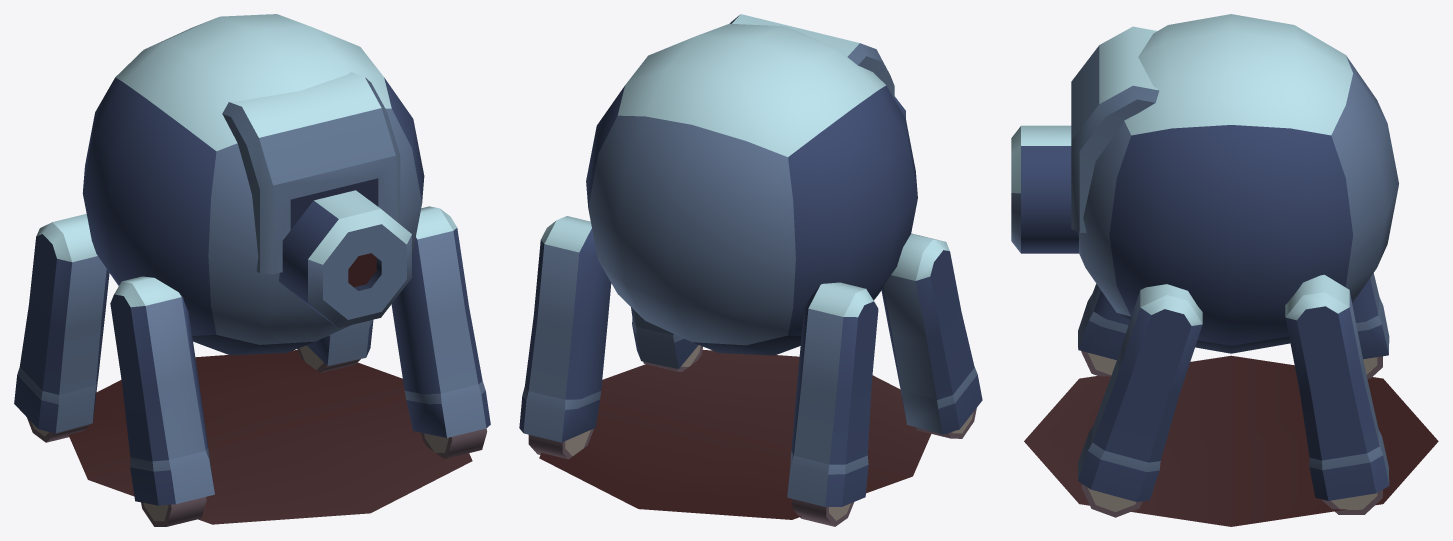
Rendered from NeoTankMesh.SilverClaw.glb.
3 renders of one model, left to right at view 1: azimuth 30°, elevation 25°; view 2: azimuth 150°, elevation 25°; view 3: azimuth 270°, elevation 25°, orthographic. The views are drawn at different scales.
Parts seen in each view (by area): view 1: NeoTankMesh.SilverClaw; view 2: NeoTankMesh.SilverClaw; view 3: NeoTankMesh.SilverClaw.
Boxes of the visible parts, x1,y1,x2,y2 form: NeoTankMesh.SilverClaw: [14, 14, 490, 526]; NeoTankMesh.SilverClaw: [519, 14, 982, 526]; NeoTankMesh.SilverClaw: [1011, 14, 1438, 526].
Size of the model in its own units: 2.03 by 2.26 by 2.14.
Materials: 1 (1 with a texture image).
